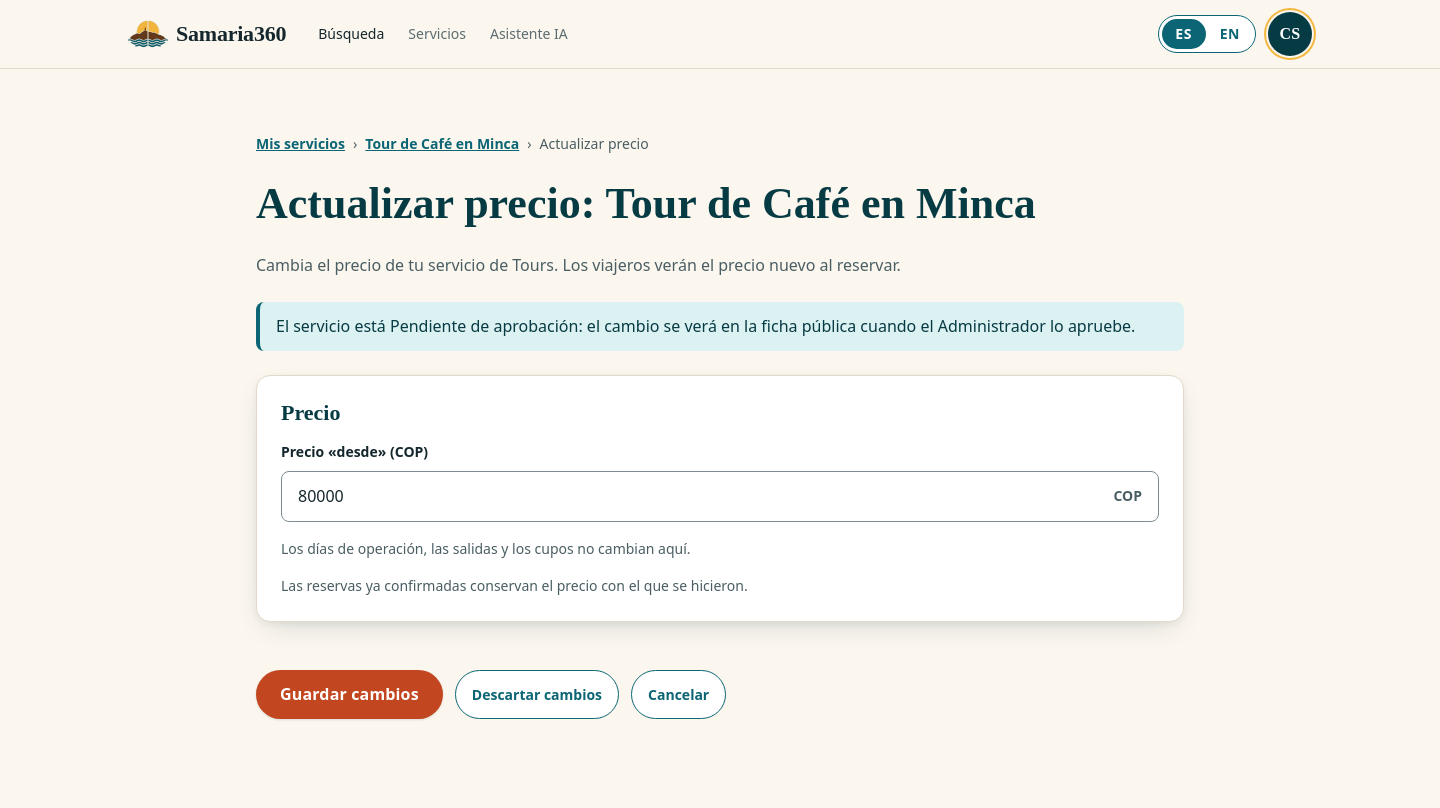
Test: Precio de un Tour (RF32) › 404: «no encontrado», sin formulario
This screenshot has width=1440, height=808.
Click the button "Guardar cambios" at (349, 694), box [256,670,443,719]
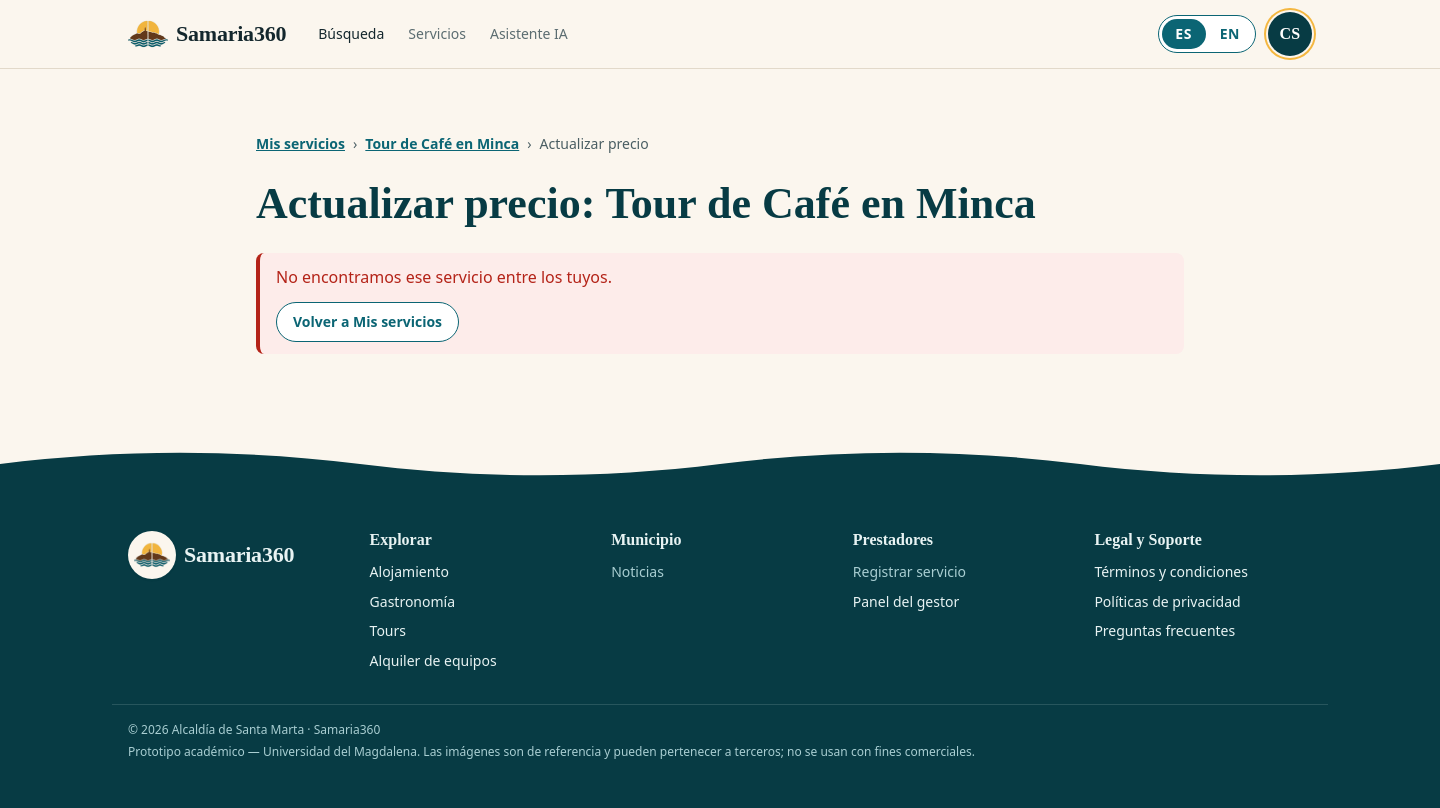
Result: the text "No encontramos ese servicio entre los tuyos." is shown at [276,265,612,290]
Result: the button "Guardar cambios" is gone
